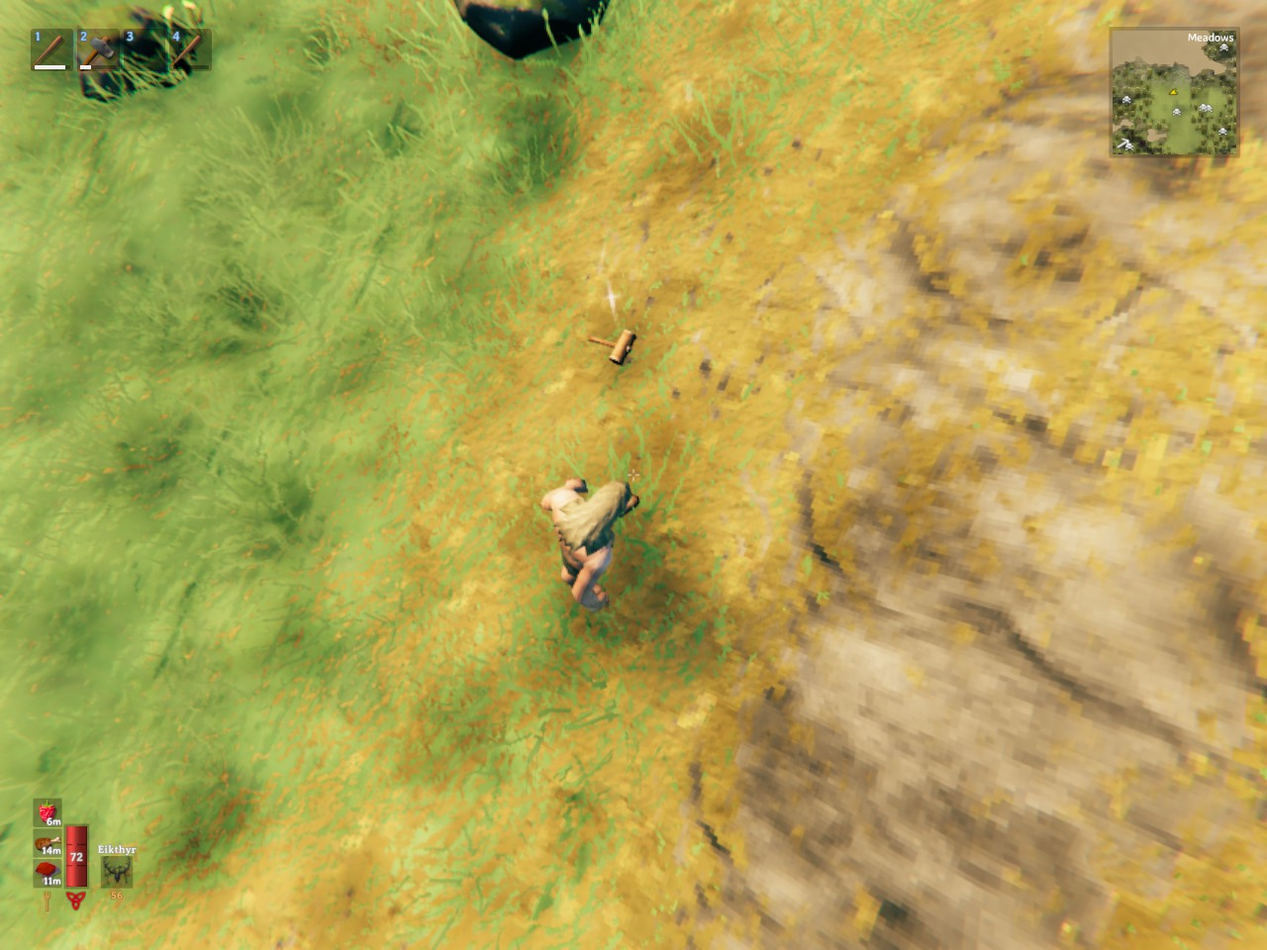Food Indicator: (36, 797, 63, 891)
Hammer: (588, 330, 636, 365)
Health Bar: (63, 820, 90, 891)
Hotbar: (25, 21, 398, 78)
